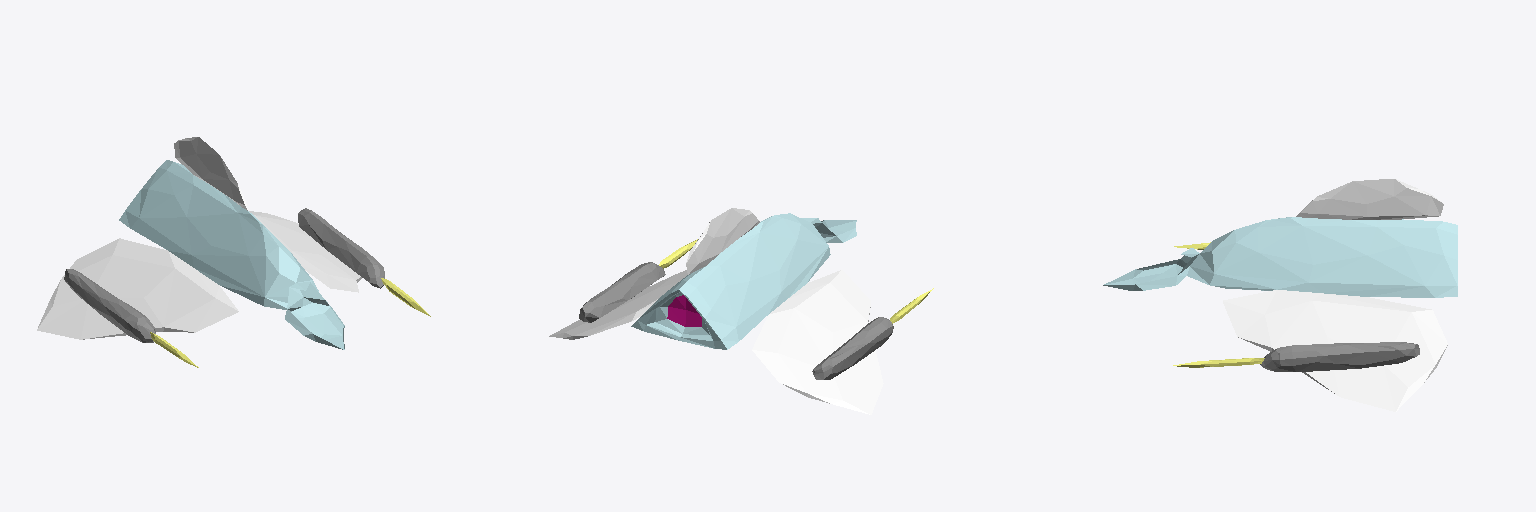
Rendered from Smoth Raptor.obj.
The picture shows the model from 3 angles: view 1: azimuth 30°, elevation 25°; view 2: azimuth 150°, elevation 25°; view 3: azimuth 270°, elevation 25°; orthographic projection.
Visible parts, largest first — view 1: Body_sep14, Body_sep17, Body_sep15, Body_sep16, Body, Body_sep21, Body_sep18; view 2: Body_sep14, Body_sep17, Body_sep18, Body_sep15, Body, Body_sep21, Body_sep16; view 3: Body_sep14, Body_sep15, Body_sep18, Body_sep21, Body_sep16, Body_sep19.
Part boxes in pixels (left/top/right/bottom): Body_sep14: left=119, top=160, right=318, bottom=309; Body_sep17: left=37, top=238, right=238, bottom=339; Body_sep15: left=249, top=211, right=361, bottom=292; Body_sep16: left=285, top=282, right=344, bottom=349; Body: left=64, top=269, right=155, bottom=342; Body_sep21: left=298, top=208, right=384, bottom=288; Body_sep18: left=174, top=137, right=247, bottom=210; Body_sep14: left=631, top=213, right=830, bottom=349; Body_sep17: left=752, top=270, right=883, bottom=414; Body_sep18: left=686, top=208, right=759, bottom=274; Body_sep15: left=549, top=270, right=687, bottom=339; Body: left=812, top=317, right=893, bottom=379; Body_sep21: left=579, top=262, right=665, bottom=322; Body_sep16: left=802, top=218, right=856, bottom=242; Body_sep14: left=1187, top=217, right=1457, bottom=297; Body_sep15: left=1223, top=290, right=1447, bottom=411; Body_sep18: left=1296, top=179, right=1443, bottom=219; Body_sep21: left=1260, top=342, right=1419, bottom=371; Body_sep16: left=1103, top=248, right=1199, bottom=290; Body_sep19: left=1173, top=358, right=1264, bottom=367.
Bounding box in the file's own units: 8.1 × 3.71 × 7.71.